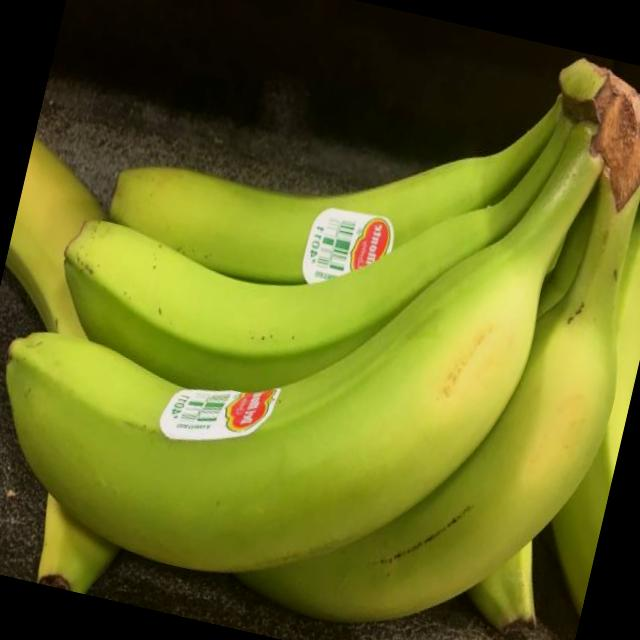banana: (0, 0, 621, 640), (39, 0, 623, 450), (96, 0, 601, 336), (0, 126, 210, 598)
